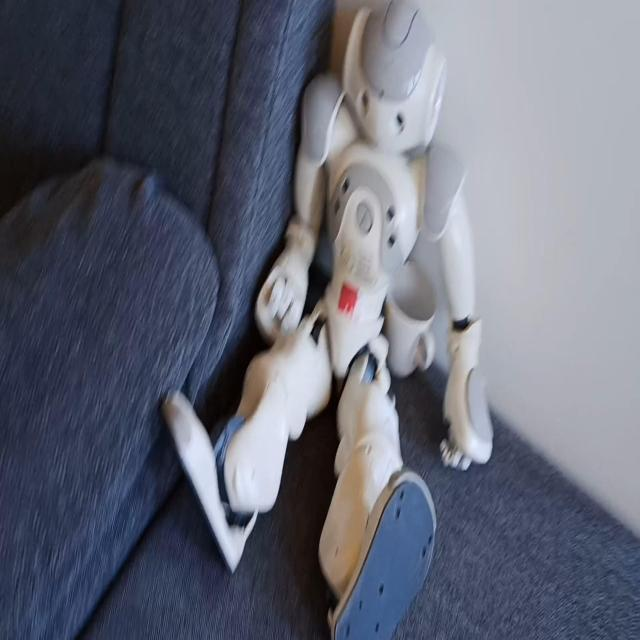cup: (380, 253, 442, 383)
